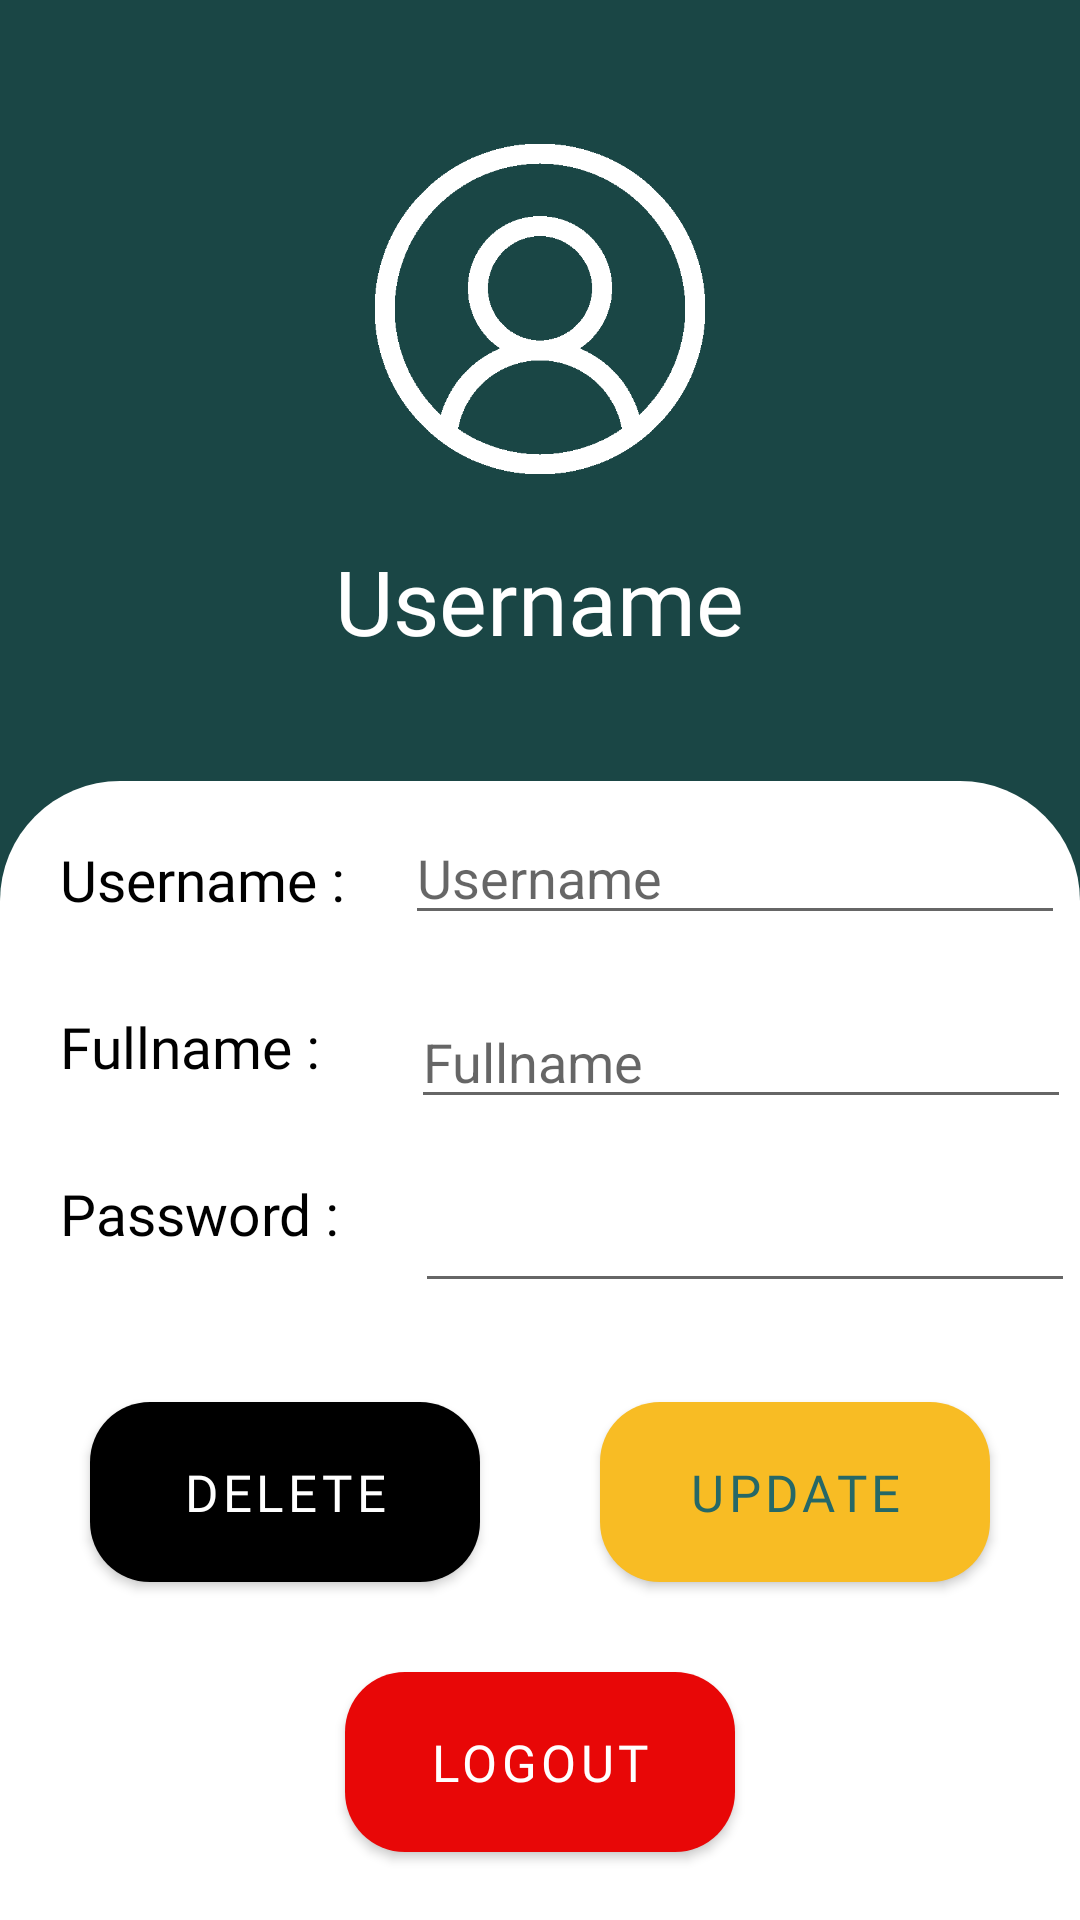

Where to tap for icons on this 1080 × 1920 app screen, as (x=x, y=y):
user account: (x=540, y=309)
